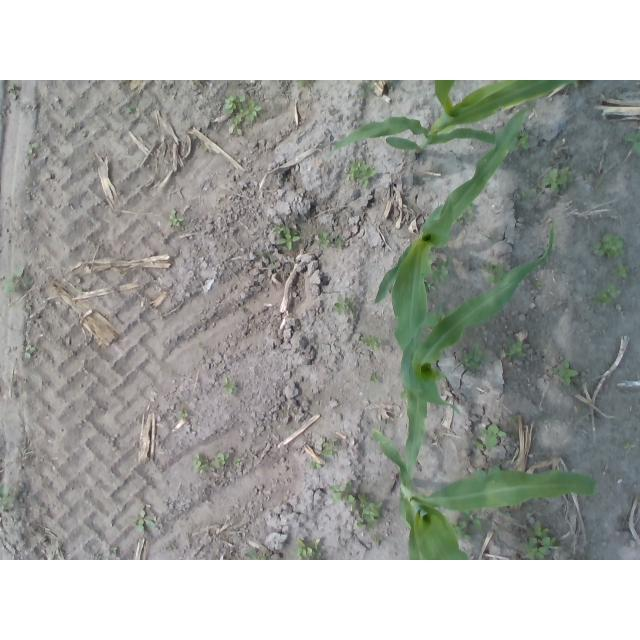Maize: (376, 105, 533, 411), (394, 223, 556, 513), (368, 426, 603, 560), (328, 80, 580, 156)
Weeds: (329, 481, 383, 532), (522, 520, 559, 560), (446, 508, 486, 542), (223, 92, 263, 126), (346, 158, 378, 189), (473, 425, 507, 452), (543, 166, 574, 195), (593, 233, 626, 259), (1, 268, 35, 293), (459, 344, 488, 373), (427, 255, 453, 286), (422, 304, 455, 328), (552, 360, 578, 387), (593, 283, 620, 308), (481, 261, 508, 285), (295, 537, 322, 560), (277, 229, 300, 252), (509, 130, 532, 153), (132, 509, 156, 531), (456, 202, 477, 226), (0, 481, 14, 513), (333, 296, 356, 315), (359, 334, 382, 352), (623, 130, 640, 154), (192, 452, 212, 472), (319, 439, 338, 458), (506, 340, 524, 359), (168, 209, 185, 228), (214, 452, 231, 468), (223, 378, 239, 395), (614, 264, 631, 279), (4, 82, 17, 101), (245, 552, 268, 561), (359, 82, 371, 99), (521, 187, 536, 200), (318, 230, 330, 246), (423, 280, 437, 293), (24, 344, 36, 358), (28, 142, 41, 154), (335, 236, 346, 249), (309, 461, 324, 470), (177, 410, 189, 421), (272, 225, 284, 234), (623, 442, 636, 450), (126, 107, 138, 114), (370, 374, 379, 383), (234, 458, 243, 467), (534, 280, 542, 288), (374, 536, 382, 544), (297, 80, 307, 85)
